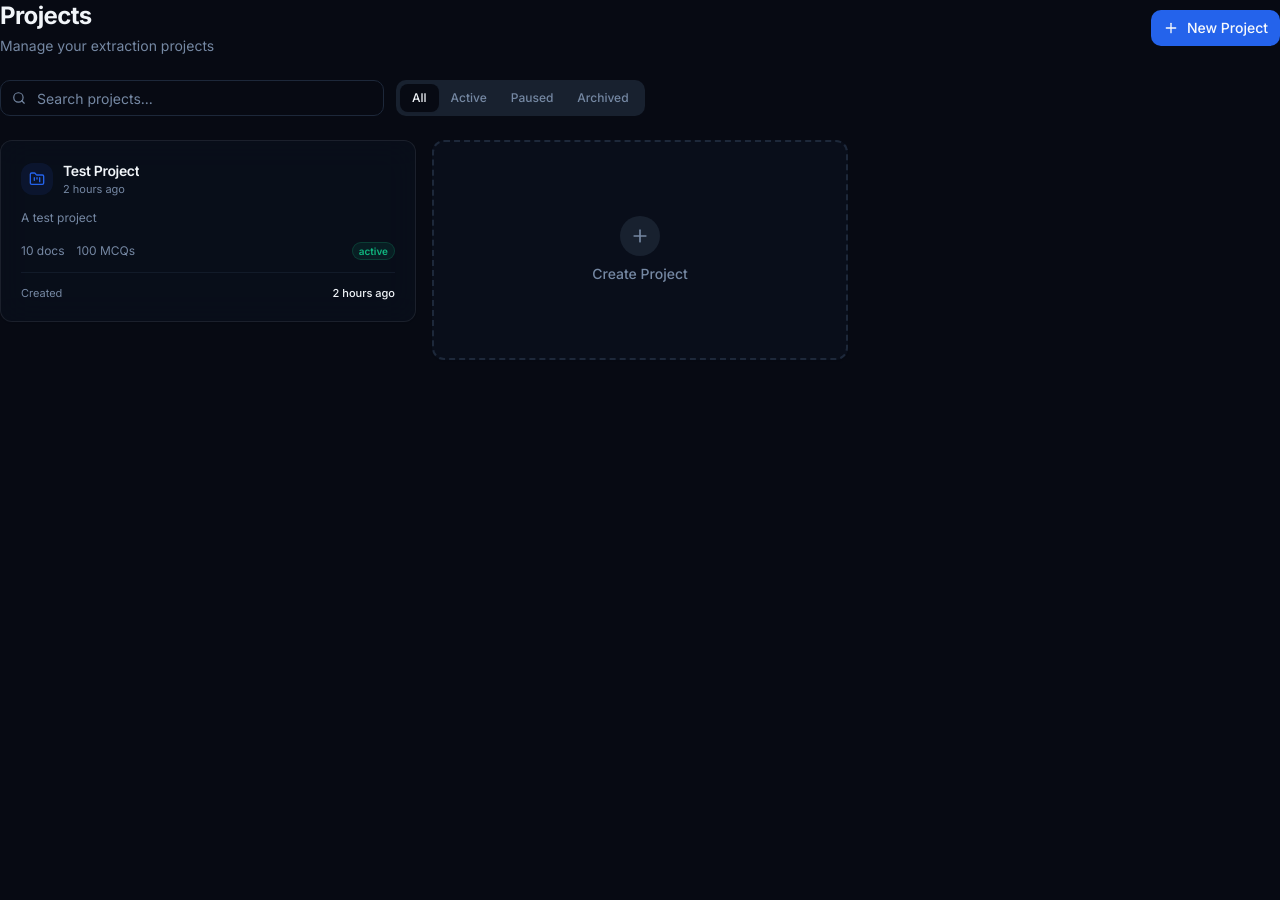
Test: Projects › shows validation error for empty project name
The width and height of the screenshot is (1280, 900).
Click the button "New Project". click: (1215, 28)
box: [1151, 10, 1279, 46]
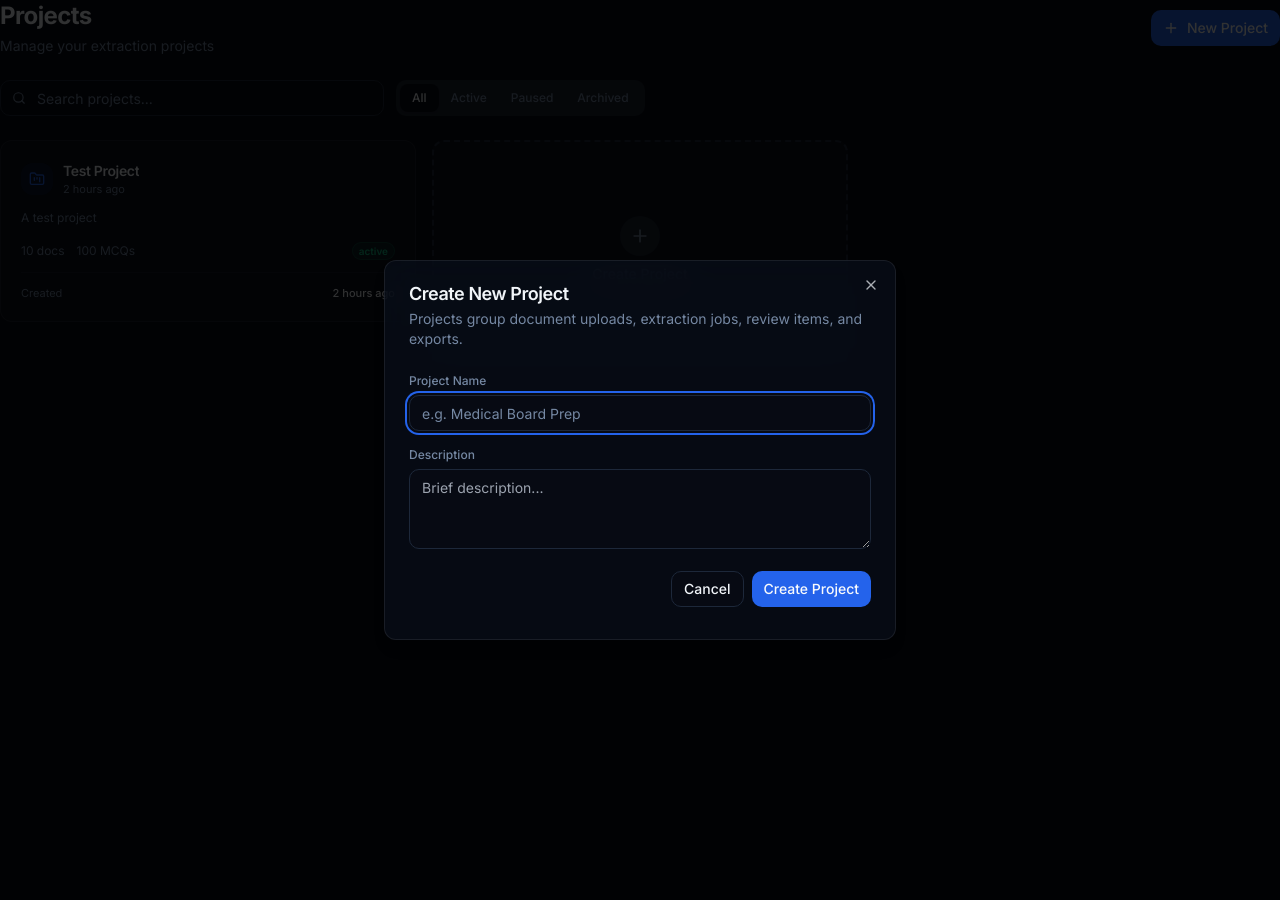
Click the button "Create Project". click: (811, 589)
box: [752, 571, 871, 607]
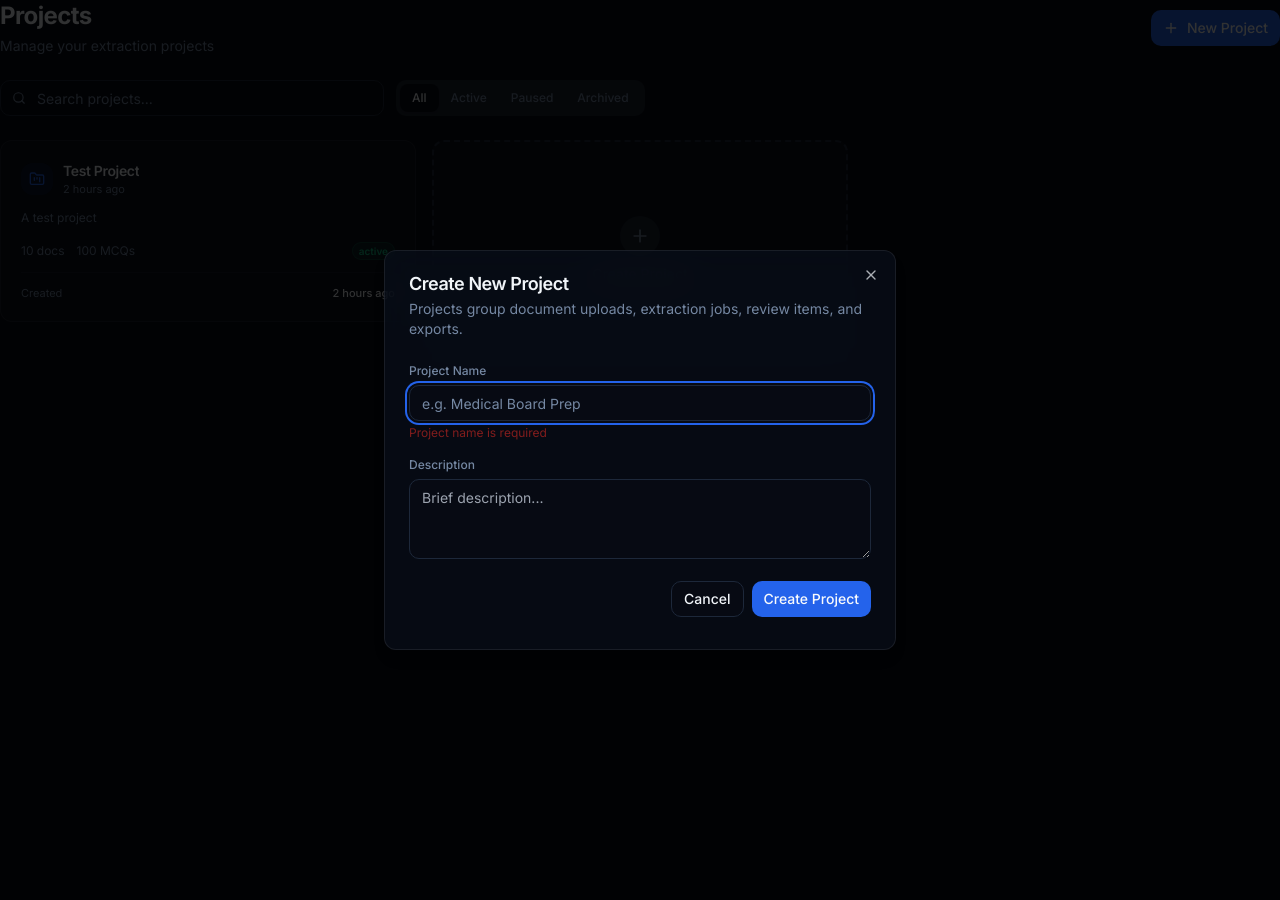
expect the text "Project name is required" is shown: met, box [409, 425, 547, 440]
